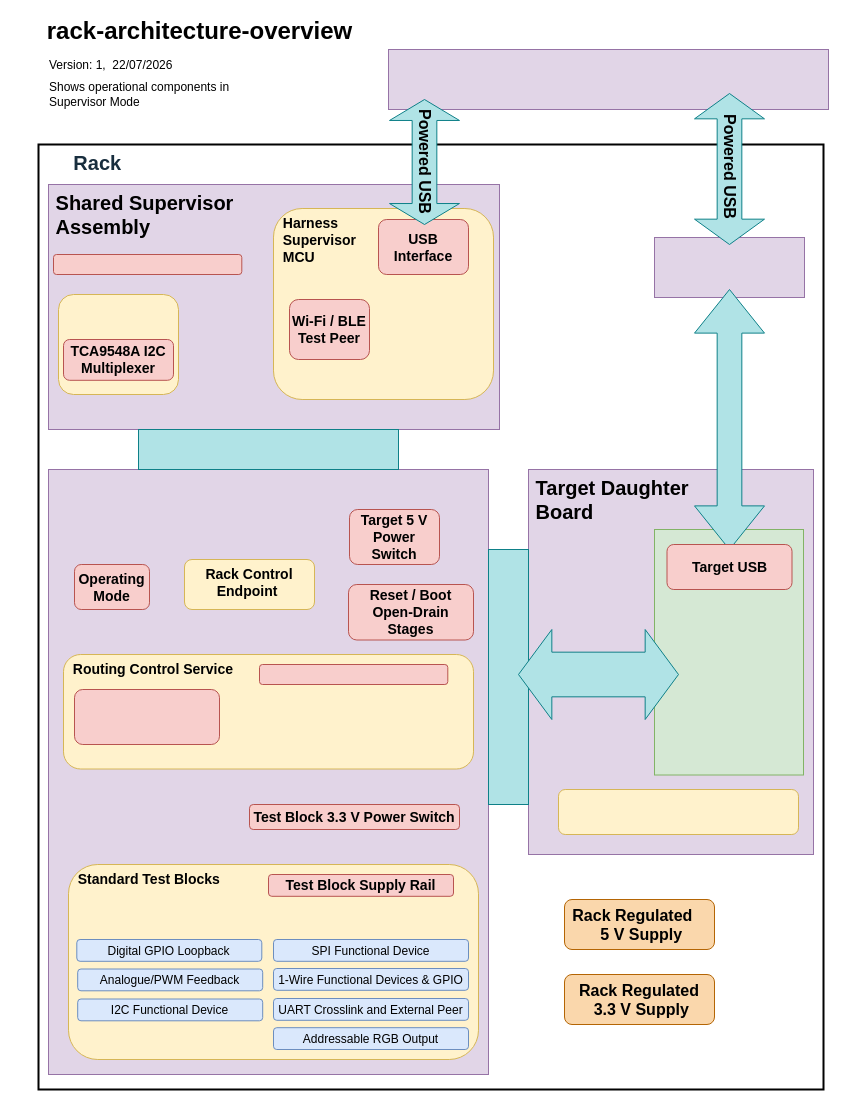
Image size: 846x1108. Some labels were removed from this diagram. Here are the shapes that lost their labels. From the top down, the box of each, then its label:
(388, 48, 828, 110): Ubuntu Test Host
(52, 254, 242, 274): Rack Control Supply Rail
(654, 236, 804, 298): Host-powered USB Hub
(58, 294, 178, 394): Rack Position Selection
(694, 288, 764, 550): USB Data + GND - No VBUS
(138, 428, 398, 470): Rack Control Backplane
(654, 528, 804, 775): Target Board
(258, 664, 448, 684): Routing Logic Supply Rail
(488, 548, 528, 804): Target Interface
(518, 628, 678, 720): Target-specific Mapping
(74, 688, 220, 744): Routing Fabric Routing-control Devices
(48, 468, 488, 1074): Reusable Harness Board
(558, 788, 798, 834): Target-specific Adapter Services
